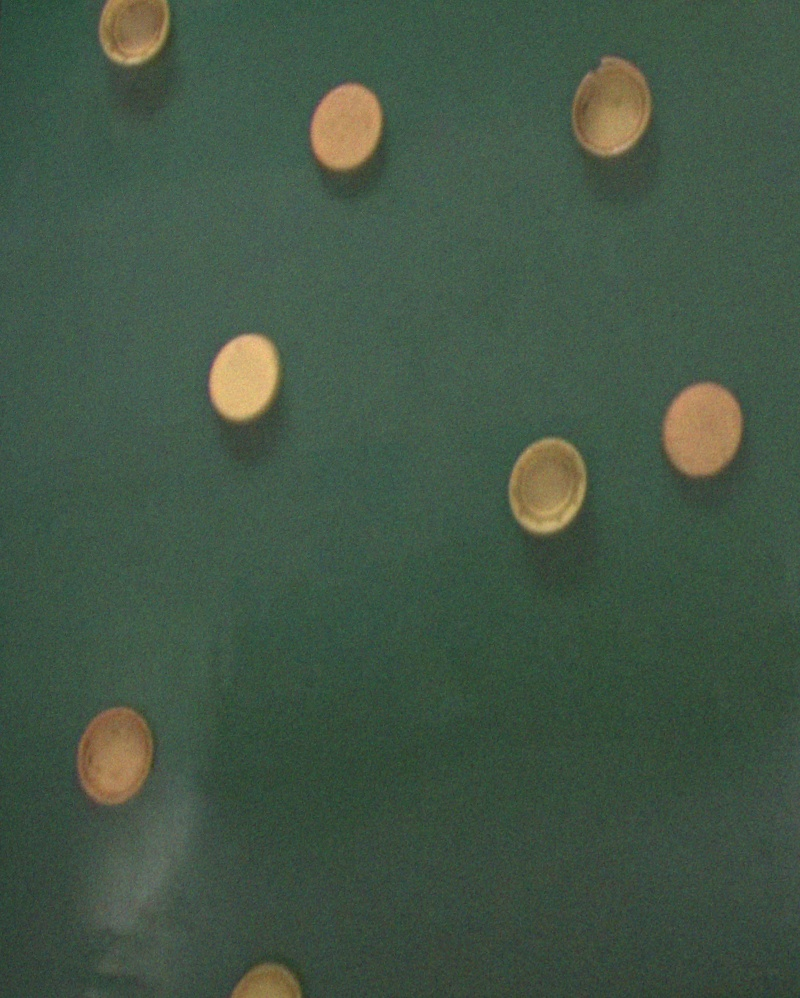Others: (570, 48, 651, 163), (72, 703, 156, 809), (507, 432, 588, 541), (661, 376, 743, 483), (308, 74, 388, 179), (205, 325, 283, 425), (95, 0, 174, 73), (220, 960, 307, 998)
